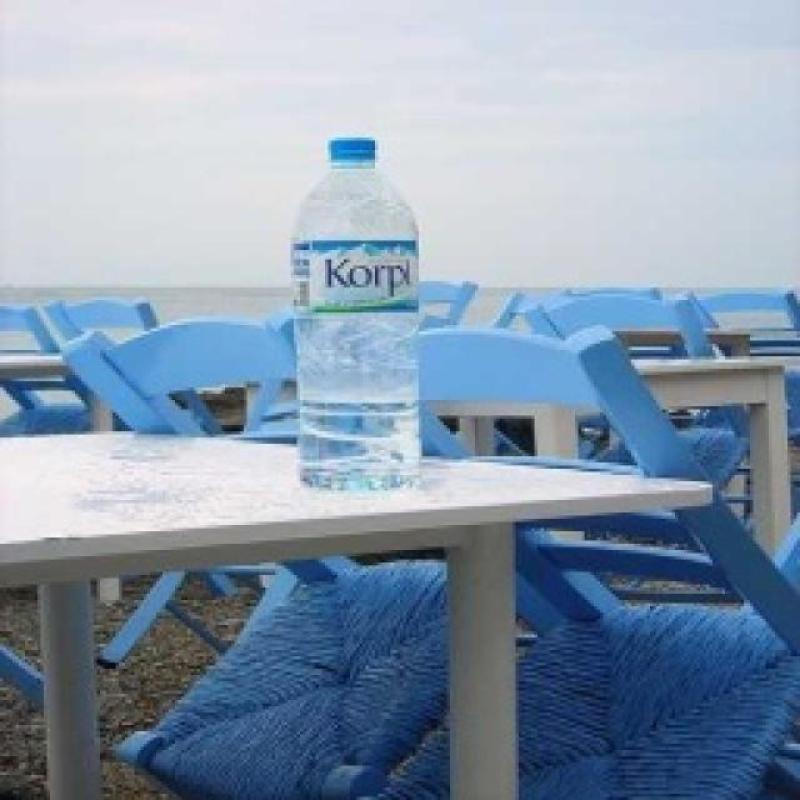botella: (284, 134, 418, 494)
